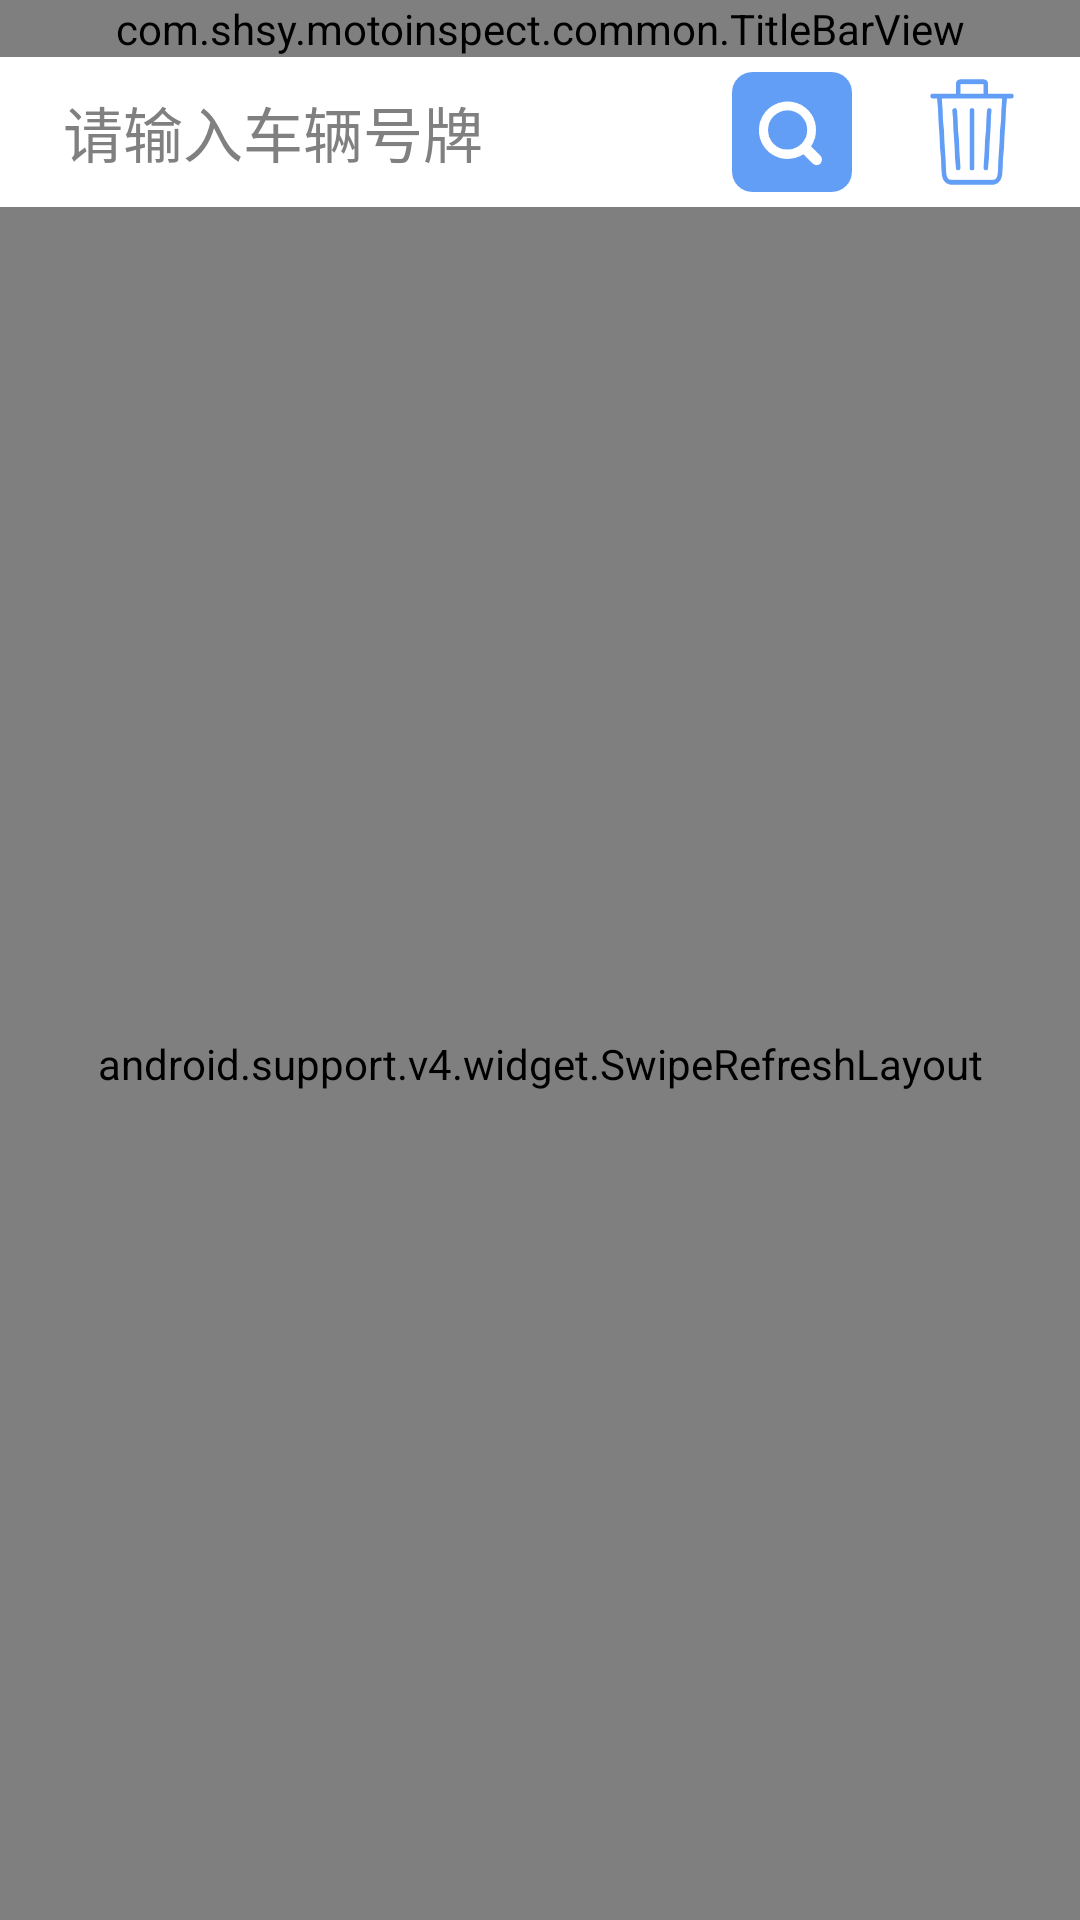

Icon click points for this 1080*1920 phone screenshot, format (x,y):
clearup: (972,132)
search: (792,132)
